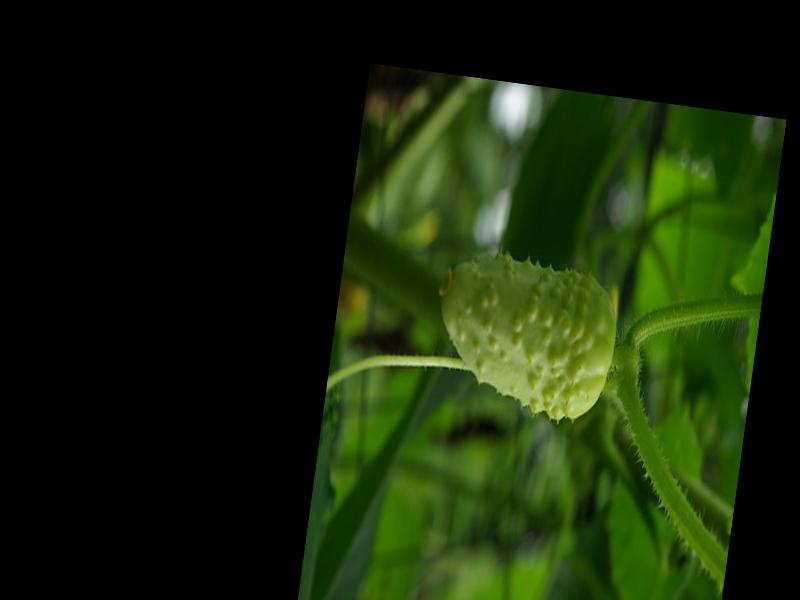Cucumber: (422, 249, 624, 427)
